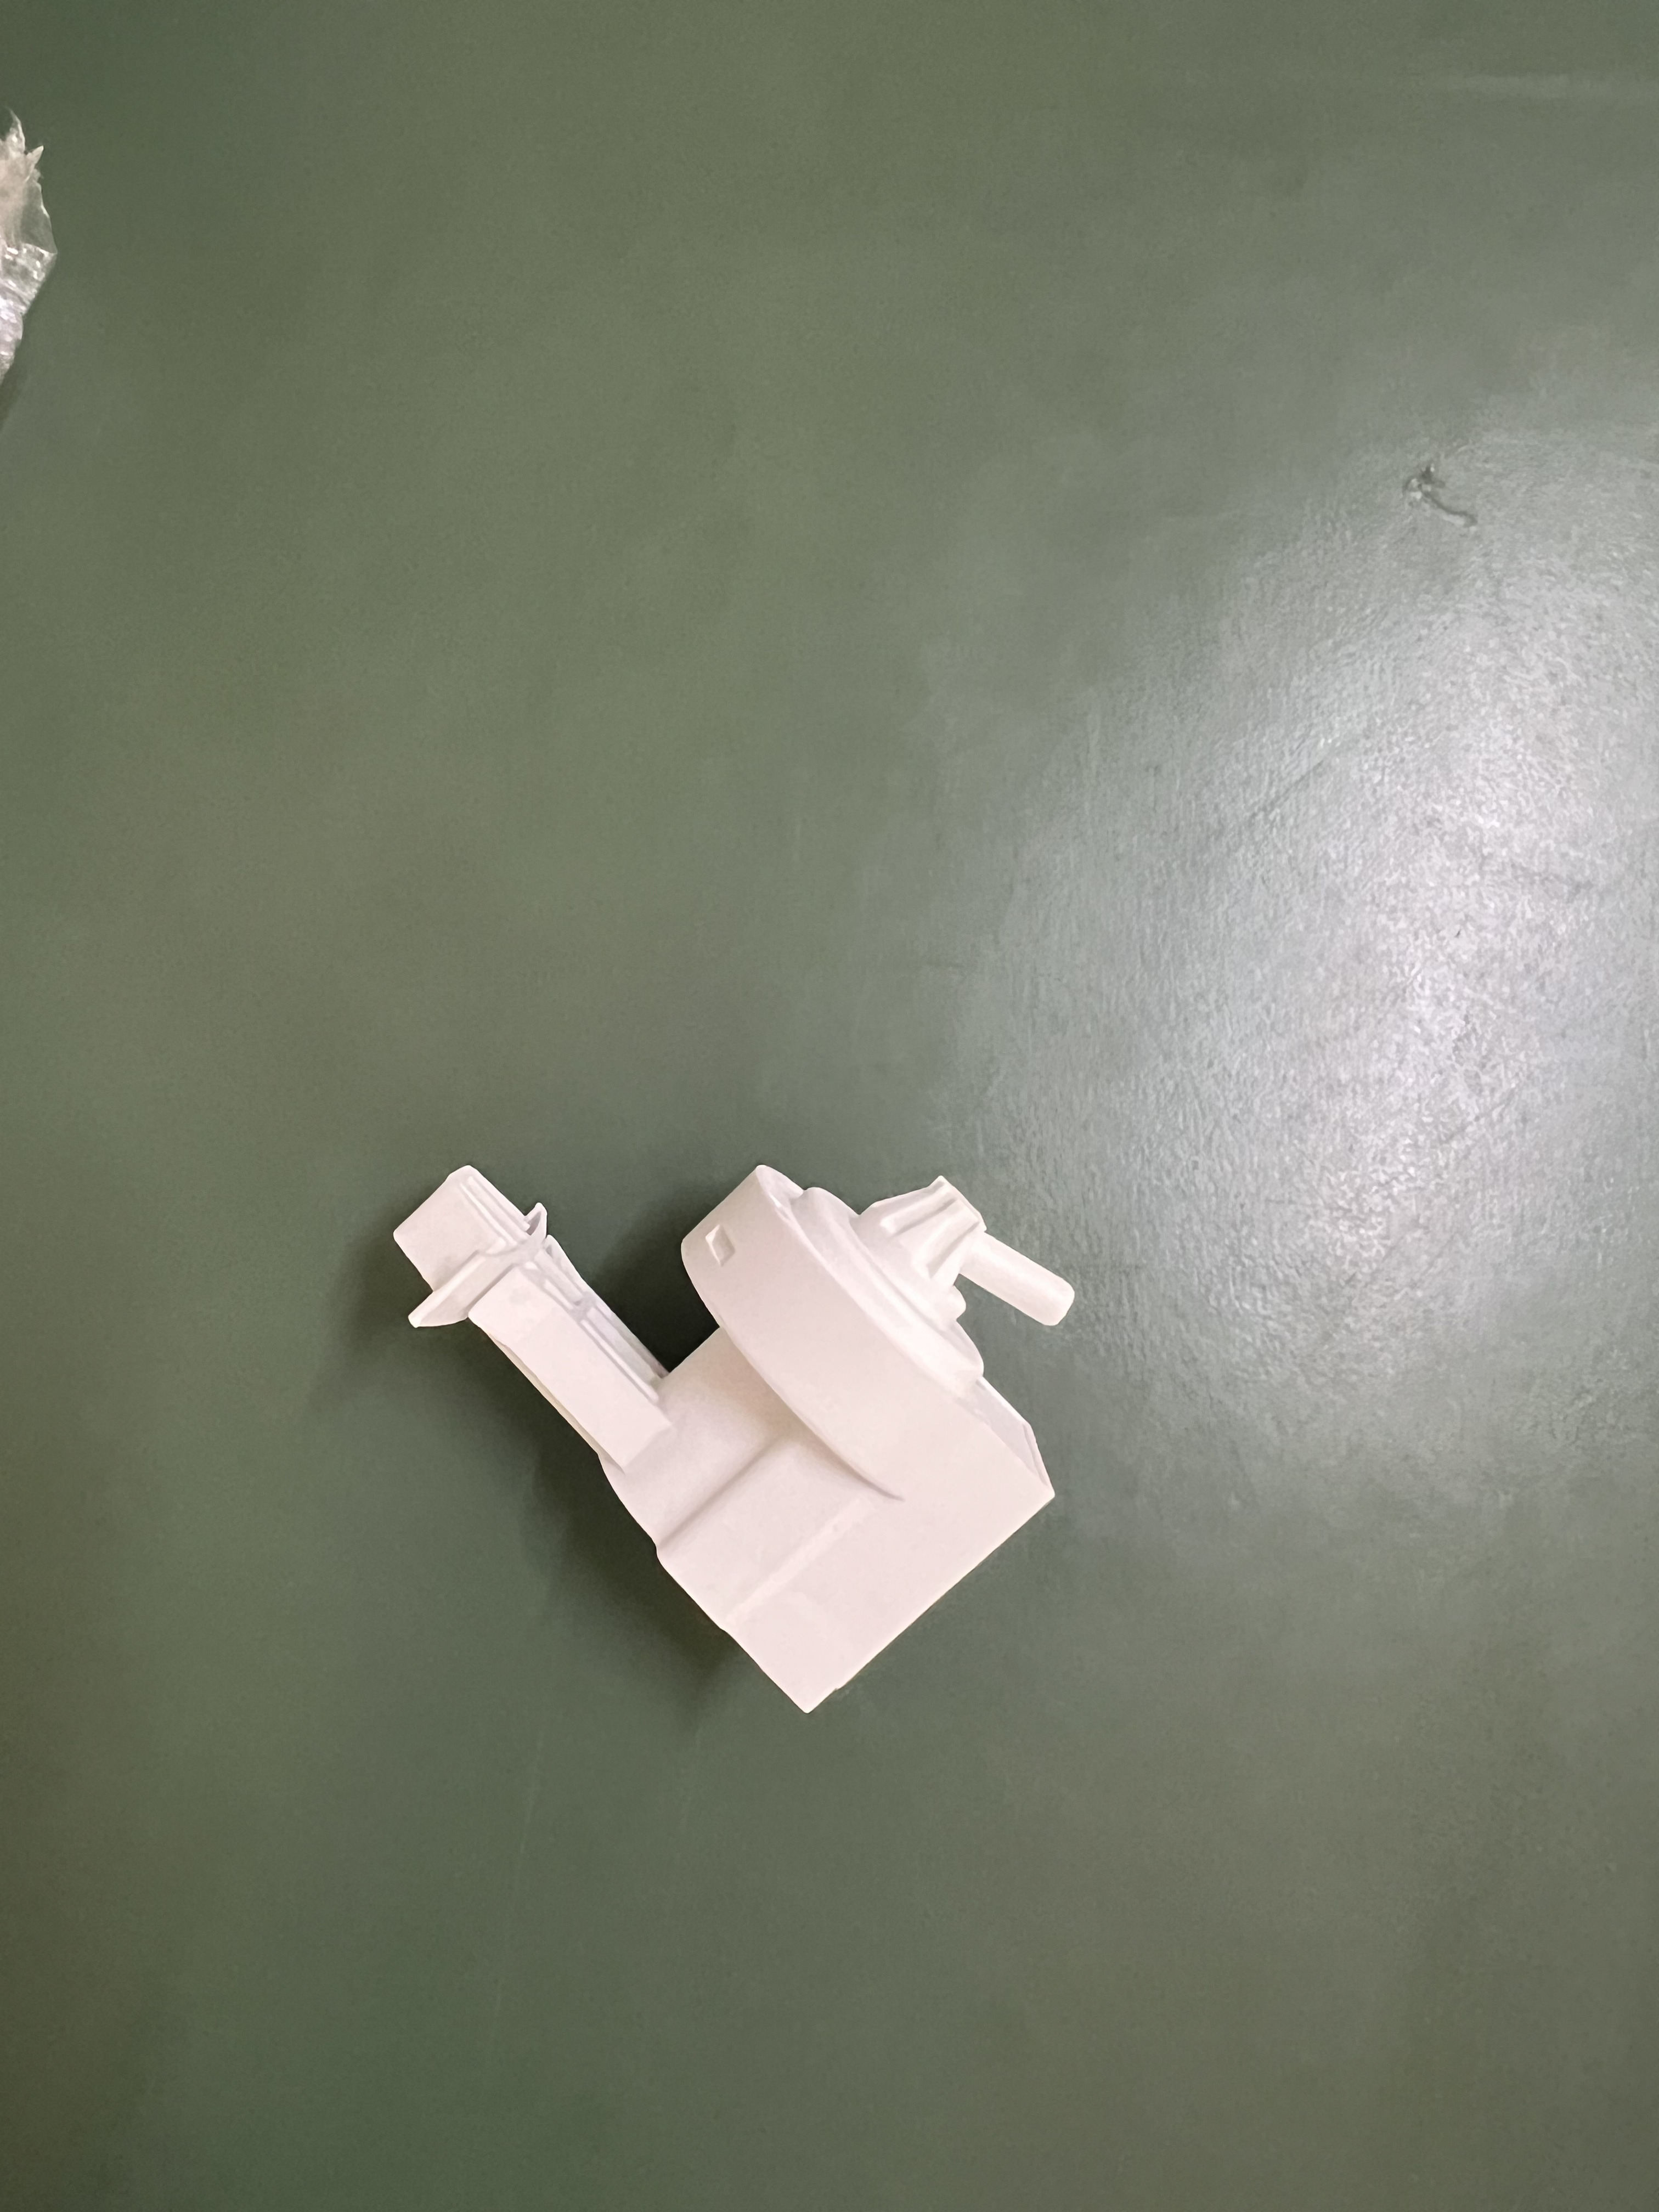pressure_switch_1: (350, 1134, 1077, 1735)
